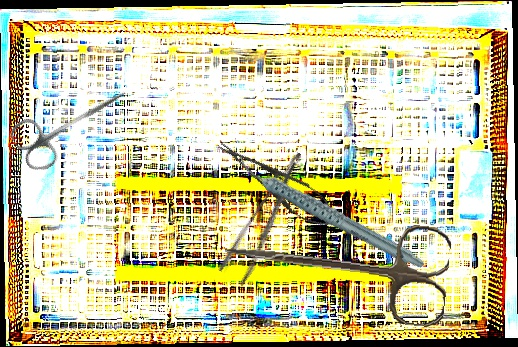Dressing Forceps: (215, 150, 323, 287)
Handpiece: (234, 121, 428, 303)
Iris Scissors: (219, 205, 453, 329), (6, 67, 139, 177)
Needle Holder: (210, 130, 349, 239)
